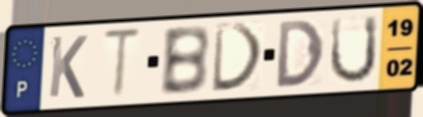B: (158, 23, 212, 98)
D: (210, 21, 267, 95), (275, 17, 326, 90)
K: (46, 33, 90, 100)
T: (100, 26, 146, 102)
U: (327, 13, 380, 86)
